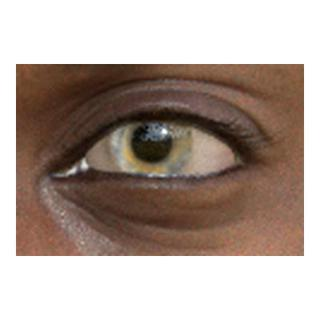pupil: (131, 123, 171, 162)
